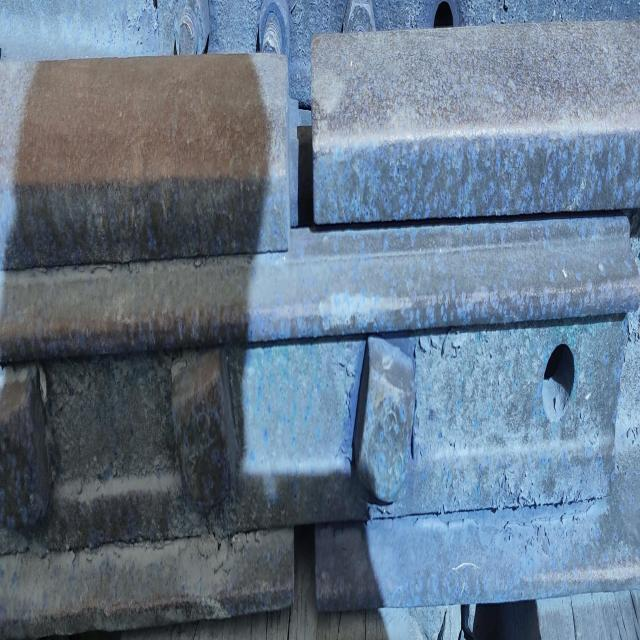Defective Joint: (1, 277, 616, 507)
